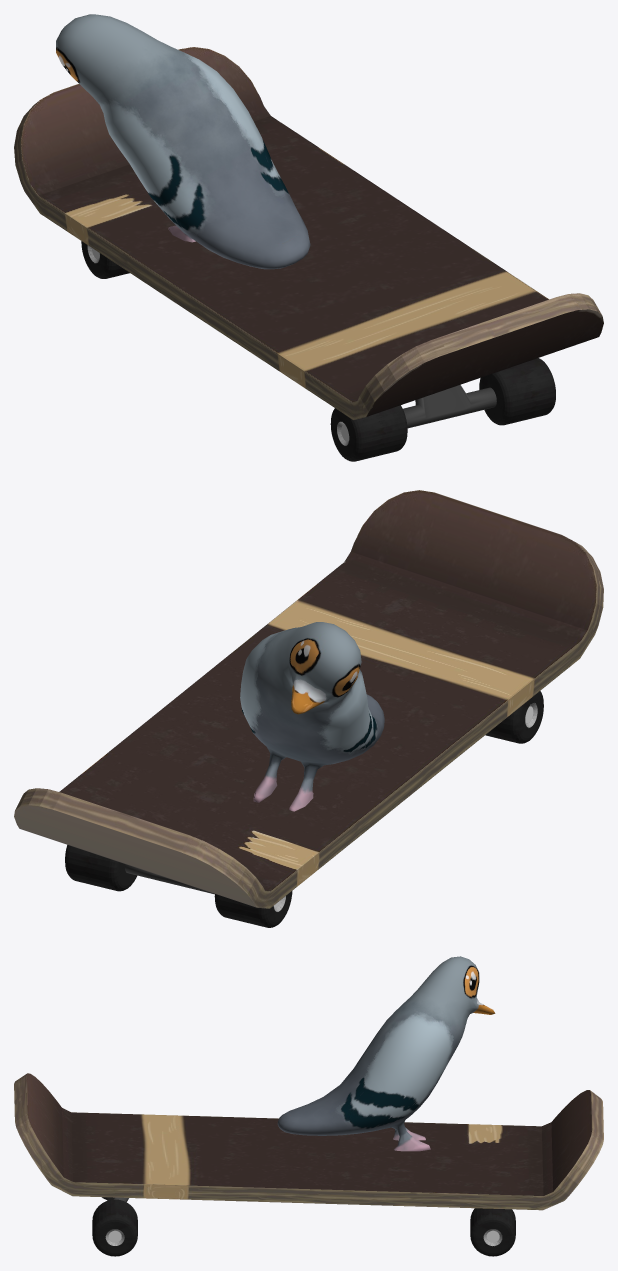
Rendered from Ride_slow.glb.
3 renders of one model, top to bottom at view 1: azimuth 30°, elevation 25°; view 2: azimuth 150°, elevation 25°; view 3: azimuth 270°, elevation 25°, orthographic. The views are drawn at different scales.
Visible parts, largest first — view 1: unnamed (×4); view 2: unnamed (×3); view 3: unnamed (×3).
Part boxes in pixels (left/top/right/bottom): unnamed (×4): left=14, top=14, right=603, bottom=461; unnamed (×3): left=14, top=490, right=603, bottom=927; unnamed (×3): left=14, top=956, right=603, bottom=1256.
Size of the model in its own units: 1.32 by 1.33 by 3.29.
4 materials, 3 textured.
